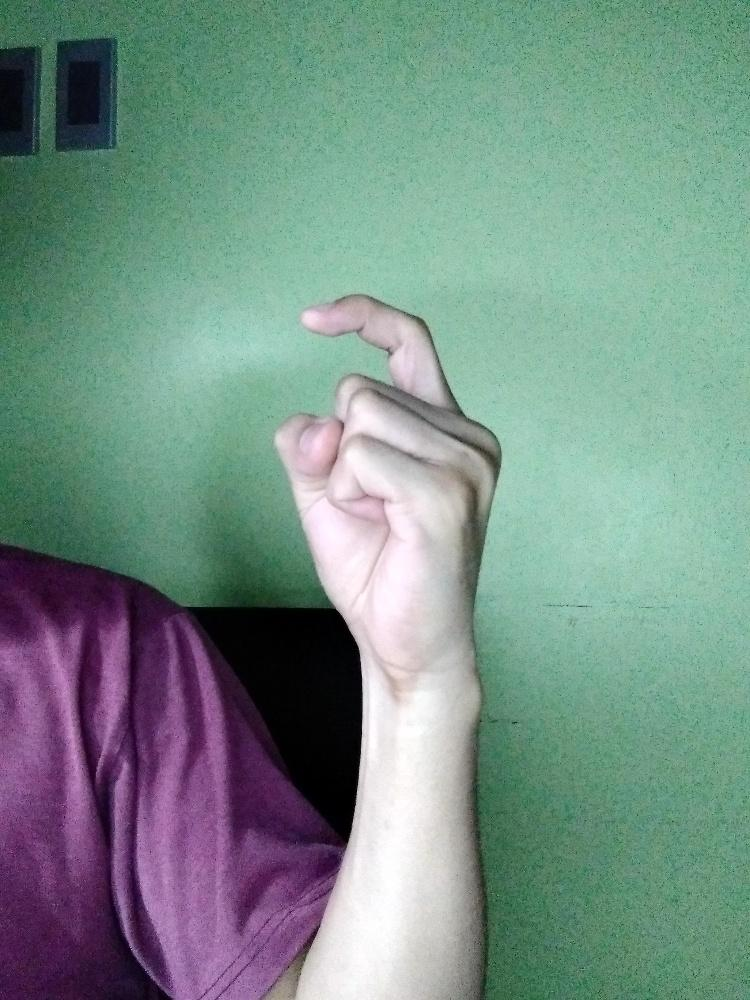x: (268, 287, 504, 667)
